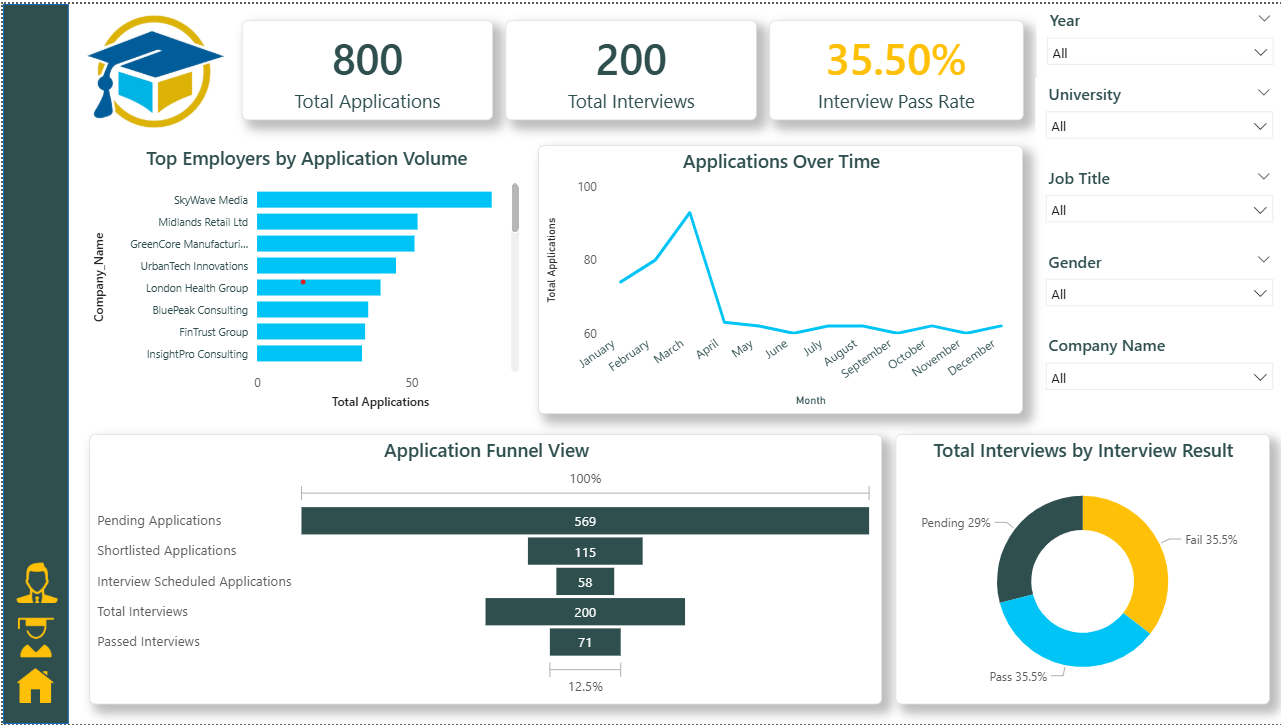

The dashboard page shown, as its layout file describes it:
{"tool":"powerbi","page":{"name":"Application Overview","canvas":[1280,720],"ordinal":0},"visuals":[{"type":"card","fields":{"Values":["Measure.Total Applications"]},"box":[238.6,15.7,251.4,100],"z":0},{"type":"card","fields":{"Values":["Measure.Total Interviews"]},"box":[502.9,15.7,251.4,100],"z":1000},{"type":"card","fields":{"Values":["Measure.Interview Pass Rate"]},"box":[765.7,15.7,254.3,100],"z":2000},{"type":"funnel","title":"Application Funnel View","fields":{"Y":["Measure.Submitted Applications","Measure.Shortlisted Applications","Measure.Interview Scheduled Applications","Measure.Total Interviews","Measure.Passed Interviews"]},"box":[85.7,430,792.9,270],"z":3000},{"type":"donutChart","title":"Total Interviews by Interview Result","fields":{"Category":["Interviews.Interview_Result"],"Y":["Measure.Total Interviews"]},"box":[892.9,430,374.3,270],"z":4000},{"type":"slicer","fields":{"Values":["Students.University"]},"box":[1032.7,73.6,247.3,84.5],"z":5000},{"type":"slicer","fields":{"Values":["Jobs.Job_Title"]},"box":[1032.7,157.6,247.3,84.5],"z":6000},{"type":"slicer","fields":{"Values":["Interviews.Interview_Date.Variation.Date Hierarchy.Year"]},"box":[1033.3,0,246.7,85],"z":7000},{"type":"slicer","fields":{"Values":["Students.Gender"]},"box":[1032.7,241.5,247.3,84.5],"z":8000},{"type":"slicer","fields":{"Values":["Employers.Company_Name"]},"box":[1032.7,325.5,247.3,84.5],"z":9000},{"type":"image","box":[65.7,0,172.9,142.9],"z":10000},{"type":"shape","box":[0,0,65.7,720],"z":11000},{"type":"lineChart","title":"Applications Over Time","fields":{"Y":["Measure.Total Applications"],"Category":["Applications.Application_Date.Variation.Date Hierarchy.Month"]},"box":[535,141.2,485,268.8],"z":12000},{"type":"clusteredBarChart","title":"Top Employers by Application Volume","fields":{"Category":["Employers.Company_Name"],"Y":["Measure.Total Applications"]},"box":[86.2,141.2,435,268.8],"z":13000},{"type":"image","box":[8.8,658.8,47.5,47.5],"z":14000},{"type":"image","box":[5,608.8,56.2,50],"z":15000},{"type":"image","box":[2.5,550,62.5,58.8],"z":16000}]}

Visuals, with their boxes in screenshot pixels (x1, y1, x2, y2), scaled from the page's 1280x720 canvas onto the 1281x727 screenshot:
card - Measure.Total Applications: bbox=(239, 16, 490, 117)
card - Measure.Total Interviews: bbox=(503, 16, 755, 117)
card - Measure.Interview Pass Rate: bbox=(766, 16, 1021, 117)
"Application Funnel View" funnel: bbox=(86, 434, 879, 707)
"Total Interviews by Interview Result" donutChart: bbox=(894, 434, 1268, 707)
slicer - Students.University: bbox=(1034, 74, 1280, 160)
slicer - Jobs.Job_Title: bbox=(1034, 159, 1280, 244)
slicer - Interviews.Interview_Date.Variation.Date Hierarchy.Year: bbox=(1034, 0, 1280, 86)
slicer - Students.Gender: bbox=(1034, 244, 1280, 329)
slicer - Employers.Company_Name: bbox=(1034, 329, 1280, 414)
image: bbox=(66, 0, 239, 144)
shape: bbox=(0, 0, 66, 726)
"Applications Over Time" lineChart: bbox=(535, 143, 1021, 414)
"Top Employers by Application Volume" clusteredBarChart: bbox=(86, 143, 522, 414)
image: bbox=(9, 665, 56, 713)
image: bbox=(5, 615, 61, 665)
image: bbox=(3, 555, 65, 615)
